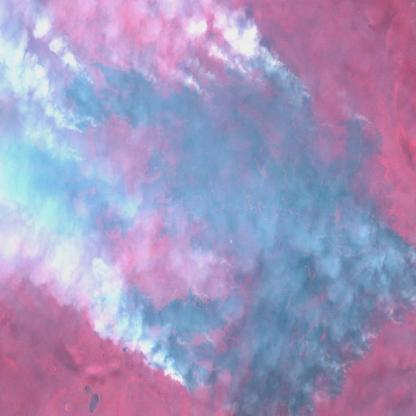fire: (0, 0, 319, 398)
